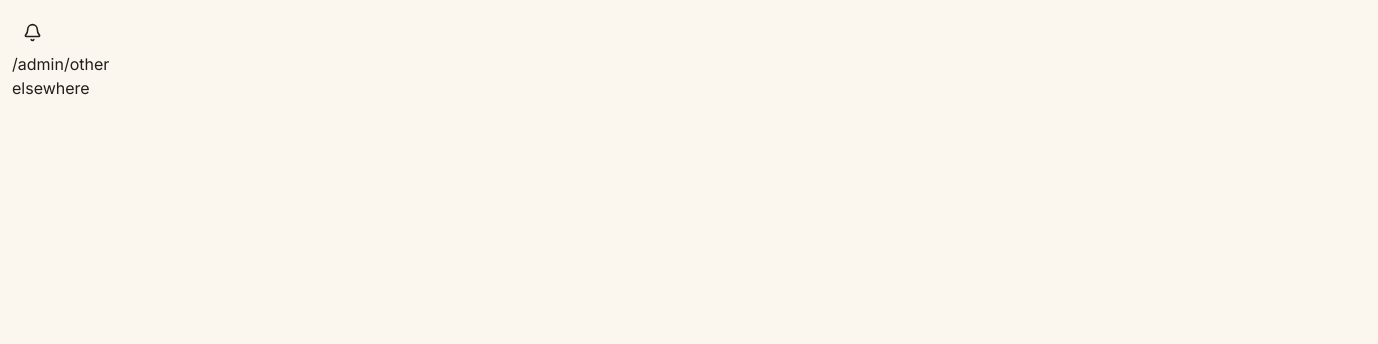
Scenario: Bell — recent dropdown › shows an error state with retry, then recovers
What coordinates should you click on to do the following:
click the button named "Notifications"
I would click on:
 (32, 32)
Its box is [12, 12, 52, 52].
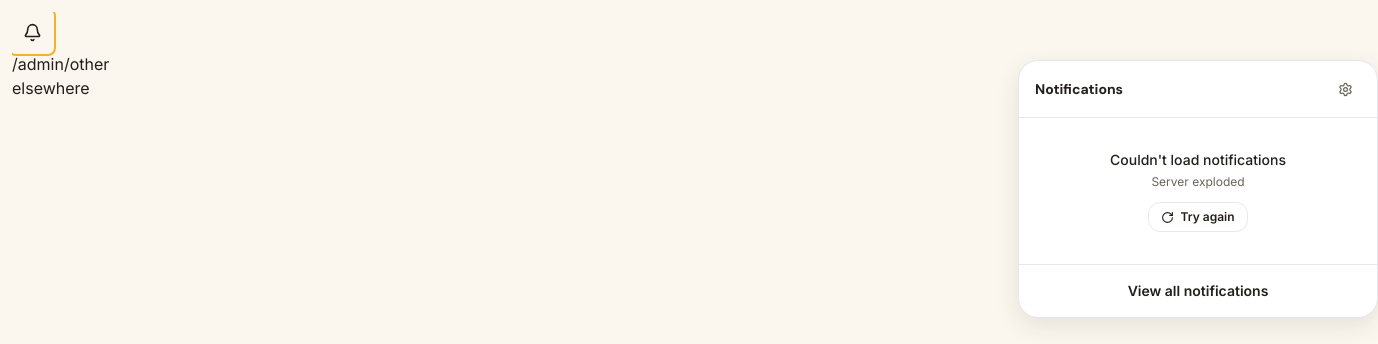
Result: the text "Couldn't load notifications" is shown at [1110, 151, 1286, 168]
Result: the text "Server exploded" is shown at [1151, 174, 1245, 189]
What coordinates should you click on to do the following:
click the button "Try again"
I would click on:
 (1198, 217)
Its box is [1148, 202, 1248, 232].
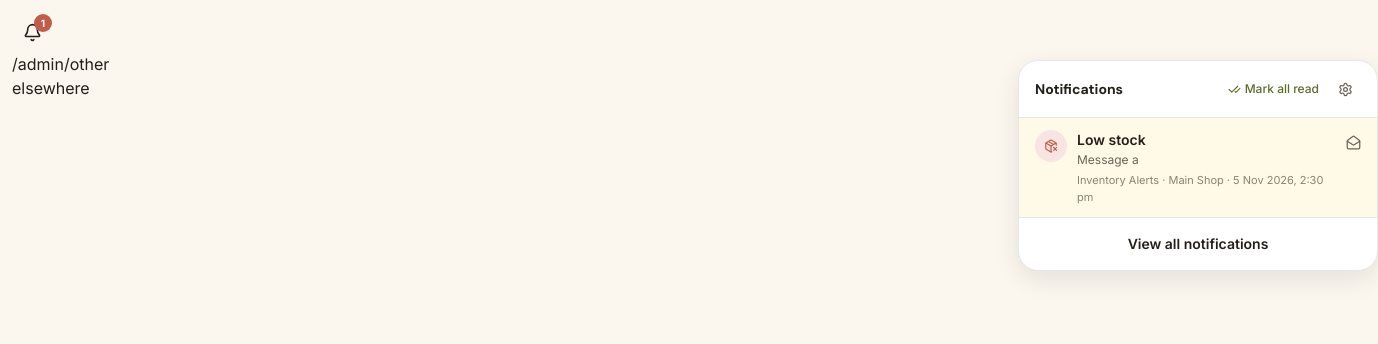
Result: the text "Low stock" is shown at [1077, 131, 1146, 148]
